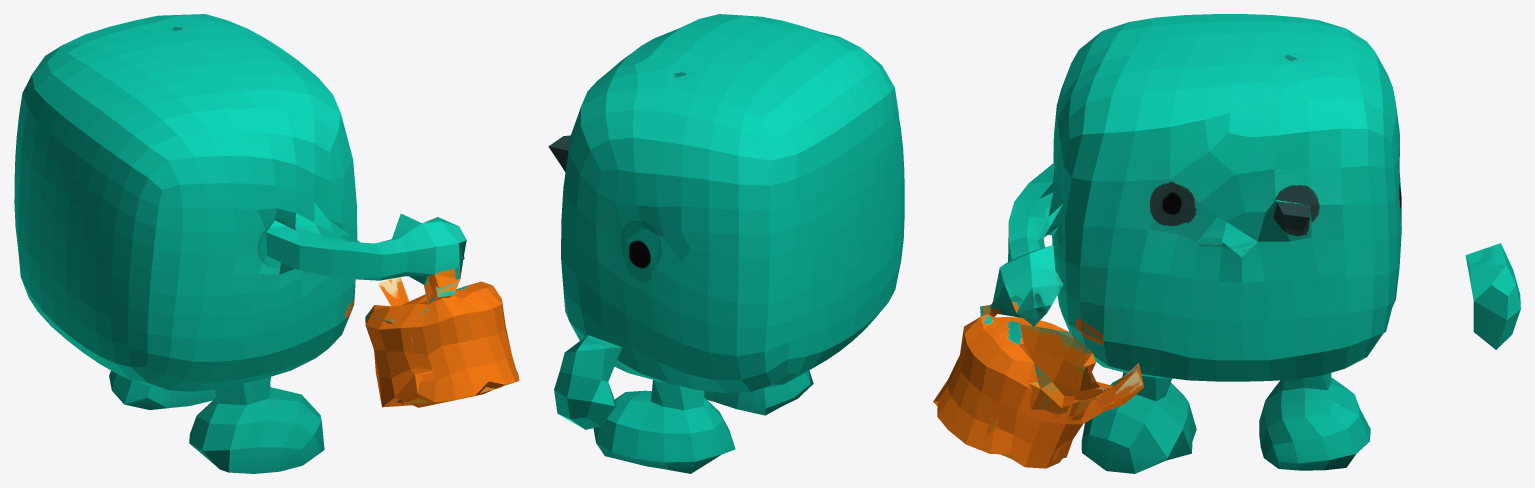
Rendered from 01-quad.glb.
The picture shows the model from 3 angles, left to right: view 1: azimuth 30°, elevation 25°; view 2: azimuth 150°, elevation 25°; view 3: azimuth 270°, elevation 25°; orthographic projection. The views are drawn at different scales.
Parts seen in each view (by area): view 1: tripo_node_d971d1f7-b1b4-42b7-8bdd-3a7ecbd1494a; view 2: tripo_node_d971d1f7-b1b4-42b7-8bdd-3a7ecbd1494a; view 3: tripo_node_d971d1f7-b1b4-42b7-8bdd-3a7ecbd1494a.
Boxes of the visible parts, box(x1,y1,x2,y2) form: tripo_node_d971d1f7-b1b4-42b7-8bdd-3a7ecbd1494a: box(14, 14, 519, 473); tripo_node_d971d1f7-b1b4-42b7-8bdd-3a7ecbd1494a: box(548, 14, 904, 473); tripo_node_d971d1f7-b1b4-42b7-8bdd-3a7ecbd1494a: box(933, 14, 1520, 473).
Bounding box in the file's own units: 0.6947 × 0.7341 × 1.
1 material, 1 textured.
